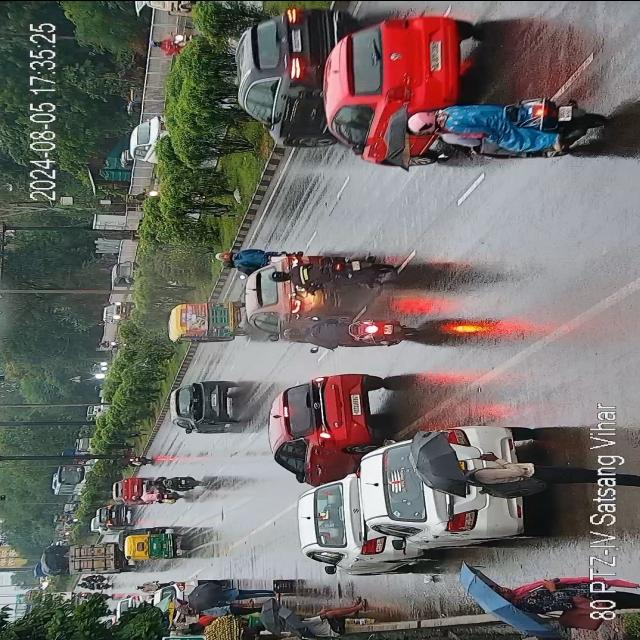2-wheelers: (398, 94, 614, 160), (258, 253, 402, 296), (284, 316, 406, 346), (212, 250, 287, 272), (150, 30, 190, 52), (130, 490, 184, 504), (144, 477, 202, 489), (130, 188, 162, 202), (110, 456, 153, 466), (131, 582, 167, 592), (81, 574, 111, 581), (87, 592, 111, 600), (85, 582, 111, 589), (77, 582, 89, 586)
auto: (169, 296, 247, 342), (123, 526, 186, 564), (109, 260, 137, 290)
bus: (52, 464, 88, 494)
car: (320, 13, 480, 174), (352, 421, 538, 546), (268, 365, 386, 479), (237, 6, 321, 147), (359, 430, 454, 550), (296, 476, 396, 570), (242, 256, 340, 328), (167, 379, 235, 434), (154, 578, 208, 626), (128, 110, 162, 164), (96, 500, 130, 530), (114, 476, 144, 502), (102, 300, 132, 323), (115, 594, 147, 608)
pedestrian: (448, 453, 584, 490), (490, 574, 592, 610), (294, 600, 362, 634), (180, 606, 262, 618), (222, 587, 274, 598), (179, 596, 190, 606)
truck: (72, 545, 124, 575), (44, 541, 70, 577)
